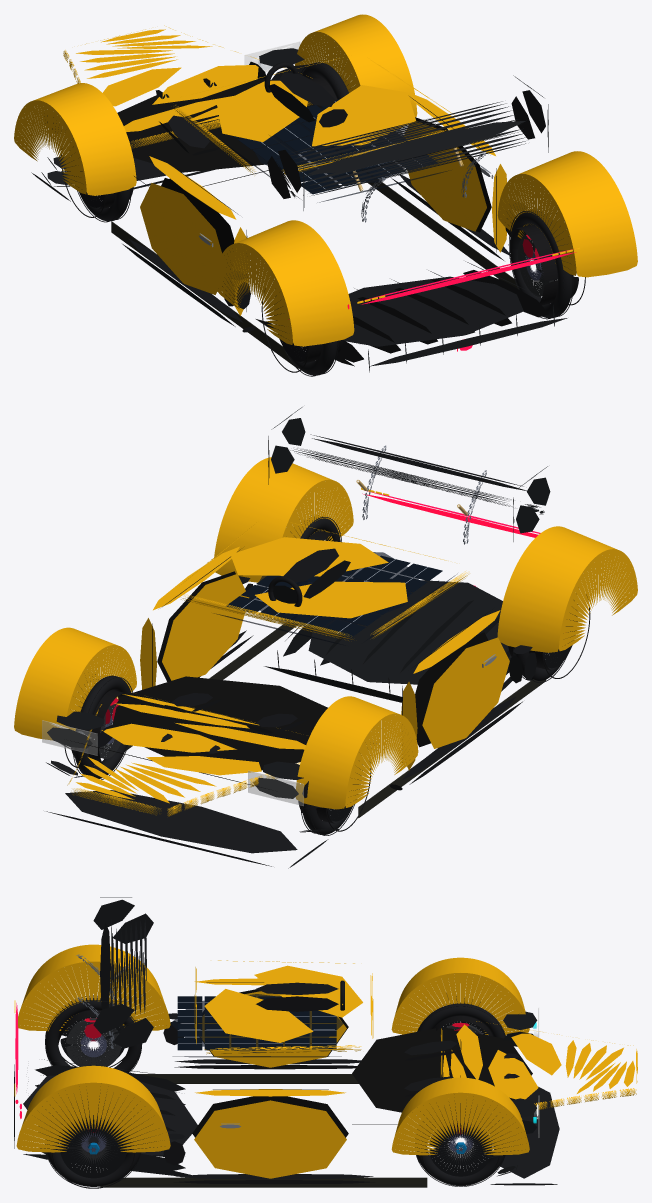
File: vehicle_time_attack_widebody.glb
3 renders of one model, top to bottom at view 1: azimuth 30°, elevation 25°; view 2: azimuth 150°, elevation 25°; view 3: azimuth 270°, elevation 25°, orthographic. The views are drawn at different scales.
Parts seen in each view (by area): view 1: ClassA_Bonnet_Assembly, Active_MultiElement_RearWing_Group, Door_Assembly_Left, Photovoltaic_SolarRoof_Subassembly, Tire_Cup2R_Assembly.003, Underbody_Venturi_GroundEffect_System, Rear_3DOled_LightBlade_Assembly, Headlight_Cluster_Left, Tire_Cup2R_Assembly.002, Tire_Cup2R_Assembly, CSiC_Brake_Assembly.003, Tire_Cup2R_Assembly.001; view 2: ClassA_Bonnet_Assembly, Active_MultiElement_RearWing_Group, Door_Assembly_Left, Photovoltaic_SolarRoof_Subassembly, Headlight_Cluster_Left, Tire_Cup2R_Assembly.001, Underbody_Venturi_GroundEffect_System, Rear_3DOled_LightBlade_Assembly, Tire_Cup2R_Assembly, Tire_Cup2R_Assembly.002, Tire_Cup2R_Assembly.003; view 3: ClassA_Bonnet_Assembly, Active_MultiElement_RearWing_Group, Door_Assembly_Left, Photovoltaic_SolarRoof_Subassembly, Underbody_Venturi_GroundEffect_System, Forged_Rim_Assembly.003, Forged_Rim_Assembly.001, Tire_Cup2R_Assembly.002, CSiC_Brake_Assembly.002, Tire_Cup2R_Assembly.003, Tire_Cup2R_Assembly, Tire_Cup2R_Assembly.001 (+3 smaller).
Boxes of the visible parts, x1,y1,x2,y2 form: ClassA_Bonnet_Assembly: (14, 14, 637, 346); Active_MultiElement_RearWing_Group: (31, 75, 567, 372); Door_Assembly_Left: (117, 79, 496, 311); Photovoltaic_SolarRoof_Subassembly: (216, 99, 448, 202); Tire_Cup2R_Assembly.003: (508, 209, 585, 319); Underbody_Venturi_GroundEffect_System: (111, 168, 519, 368); Rear_3DOled_LightBlade_Assembly: (347, 247, 580, 351); Headlight_Cluster_Left: (44, 41, 307, 131); Tire_Cup2R_Assembly.002: (261, 288, 343, 376); Tire_Cup2R_Assembly: (61, 149, 133, 222); CSiC_Brake_Assembly.003: (518, 235, 553, 296); Tire_Cup2R_Assembly.001: (300, 62, 350, 157); ClassA_Bonnet_Assembly: (14, 457, 637, 816); Active_MultiElement_RearWing_Group: (46, 407, 550, 868); Door_Assembly_Left: (70, 549, 496, 789); Photovoltaic_SolarRoof_Subassembly: (214, 552, 455, 645); Headlight_Cluster_Left: (42, 711, 308, 806); Tire_Cup2R_Assembly.001: (64, 675, 132, 779); Underbody_Venturi_GroundEffect_System: (125, 622, 545, 817); Rear_3DOled_LightBlade_Assembly: (361, 488, 540, 586); Tire_Cup2R_Assembly: (298, 762, 371, 835); Tire_Cup2R_Assembly.002: (508, 594, 590, 682); Tire_Cup2R_Assembly.003: (290, 515, 341, 619); ClassA_Bonnet_Assembly: (16, 944, 637, 1184); Active_MultiElement_RearWing_Group: (14, 897, 559, 1185); Door_Assembly_Left: (192, 982, 532, 1137); Photovoltaic_SolarRoof_Subassembly: (170, 994, 343, 1057); Underbody_Venturi_GroundEffect_System: (100, 1074, 427, 1187); Forged_Rim_Assembly.003: (60, 1117, 126, 1178); Forged_Rim_Assembly.001: (429, 1119, 492, 1176); Tire_Cup2R_Assembly.002: (45, 995, 142, 1072); CSiC_Brake_Assembly.002: (66, 1018, 121, 1066); Tire_Cup2R_Assembly.003: (45, 1098, 141, 1188); Tire_Cup2R_Assembly: (417, 1002, 505, 1038); Tire_Cup2R_Assembly.001: (415, 1103, 505, 1186).
Bounding box in the file's own units: 2.58 × 1.57 × 4.67.
